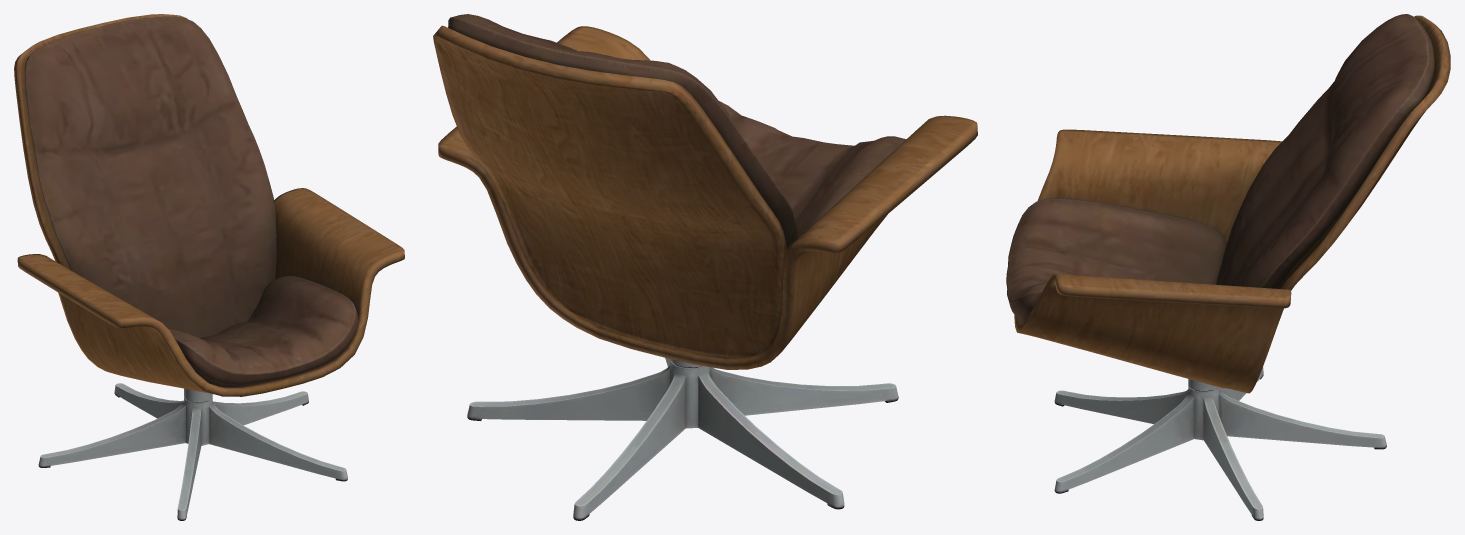
File: lounge_chair.glb
3 views of the same model, side by side, from view 1: azimuth 30°, elevation 25°; view 2: azimuth 150°, elevation 25°; view 3: azimuth 270°, elevation 25° (orthographic). The views are drawn at different scales.
Parts seen in each view (by area): view 1: lounge_chair; view 2: lounge_chair; view 3: lounge_chair.
Part boxes in pixels (x1=…): lounge_chair: x1=14, y1=14, x2=404, y2=520; lounge_chair: x1=433, y1=14, x2=977, y2=520; lounge_chair: x1=1006, y1=14, x2=1450, y2=520.
Size of the model in its own units: 1.01 by 1.17 by 1.19.
Materials: 1 (1 with a texture image).
